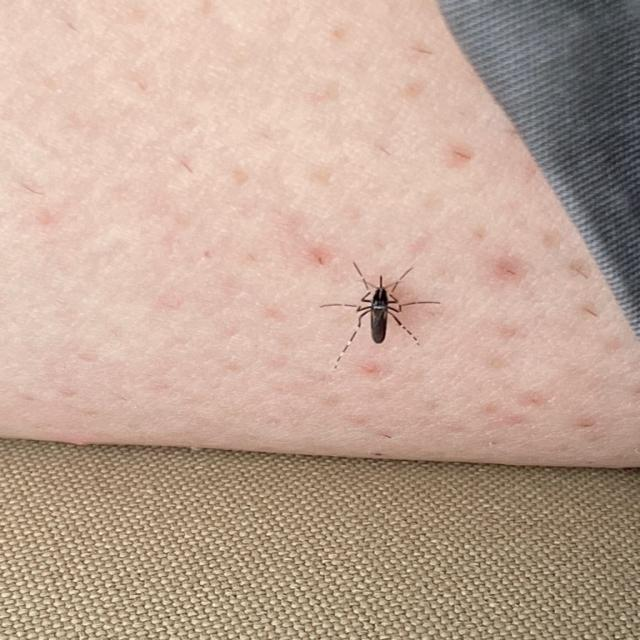albopictus: (311, 255, 439, 368)
